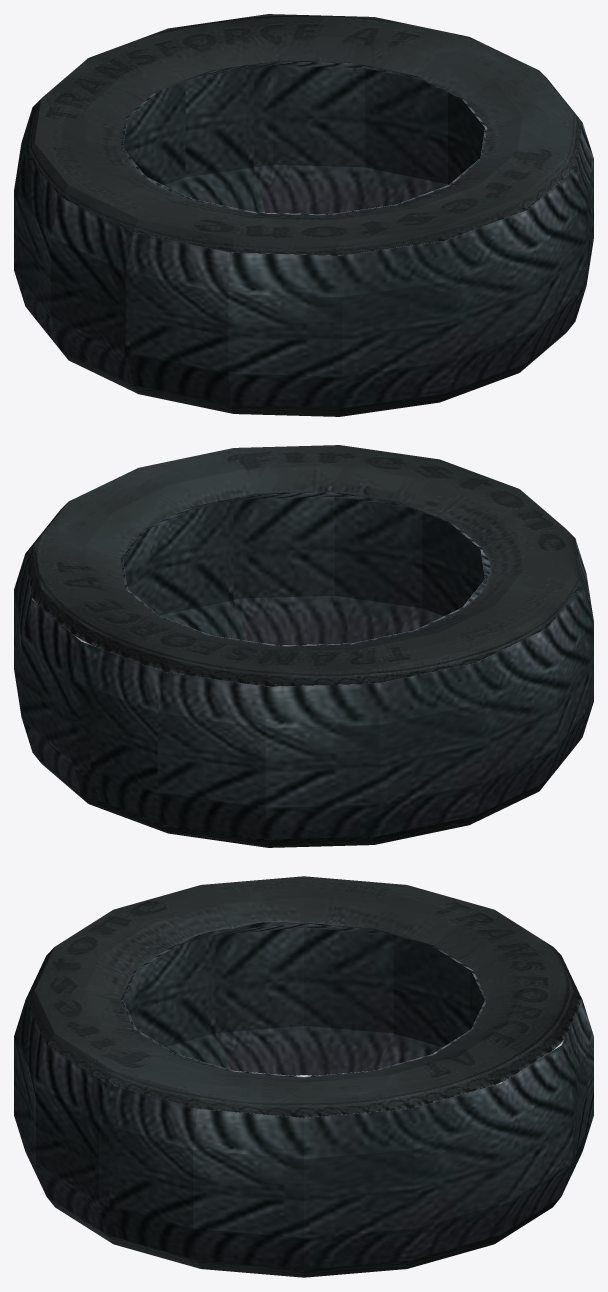
File: tire.fbx
3 views of the same model, one above another, from view 1: azimuth 30°, elevation 25°; view 2: azimuth 150°, elevation 25°; view 3: azimuth 270°, elevation 25° (orthographic).
Visible parts, largest first — view 1: Cylinder, Cylinder.001; view 2: Cylinder, Cylinder.001; view 3: Cylinder, Cylinder.001.
Part boxes in pixels (x1,y1,x2,y2): Cylinder: (14,14,593,416); Cylinder.001: (120,61,487,215); Cylinder: (14,445,593,847); Cylinder.001: (120,492,490,646); Cylinder: (14,876,593,1277); Cylinder.001: (120,923,487,1077).
Bounding box in the file's own units: 208 × 68.76 × 208.
2 materials, 2 textured.
